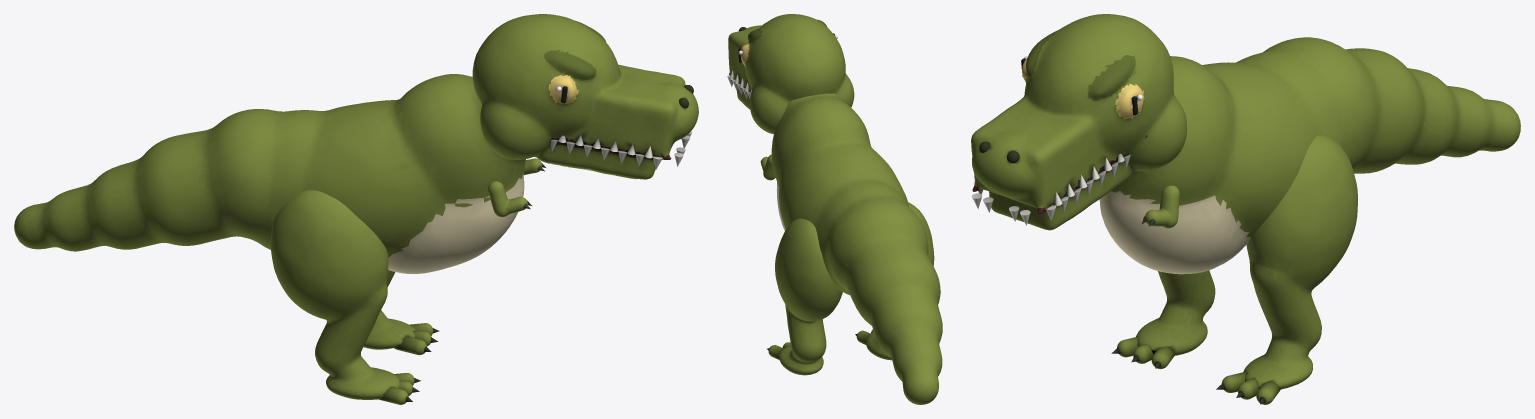
The model's file is var-ar-kassan.glb.
The picture shows the model from 3 angles, left to right: view 1: azimuth 30°, elevation 25°; view 2: azimuth 150°, elevation 25°; view 3: azimuth 270°, elevation 25°; orthographic projection. The views are drawn at different scales.
Visible parts, largest first — view 1: trex__r0, cabeca__r0, pernas__r0, bracinhos__r0; view 2: trex__r0, cabeca__r0, pernas__r0, bracinhos__r0; view 3: trex__r0, cabeca__r0, pernas__r0, bracinhos__r0.
Boxes of the visible parts, x1,y1,x2,y2 form: trex__r0: [14, 74, 525, 273]; cabeca__r0: [472, 14, 698, 179]; pernas__r0: [270, 190, 416, 399]; bracinhos__r0: [488, 158, 542, 217]; trex__r0: [771, 93, 942, 404]; cabeca__r0: [728, 14, 854, 133]; pernas__r0: [775, 202, 934, 375]; bracinhos__r0: [761, 154, 775, 180]; trex__r0: [1099, 37, 1520, 274]; cabeca__r0: [971, 14, 1187, 230]; pernas__r0: [1136, 135, 1357, 389]; bracinhos__r0: [1145, 185, 1179, 228].
Size of the model in its own units: 3.43 by 2.55 by 3.1.
